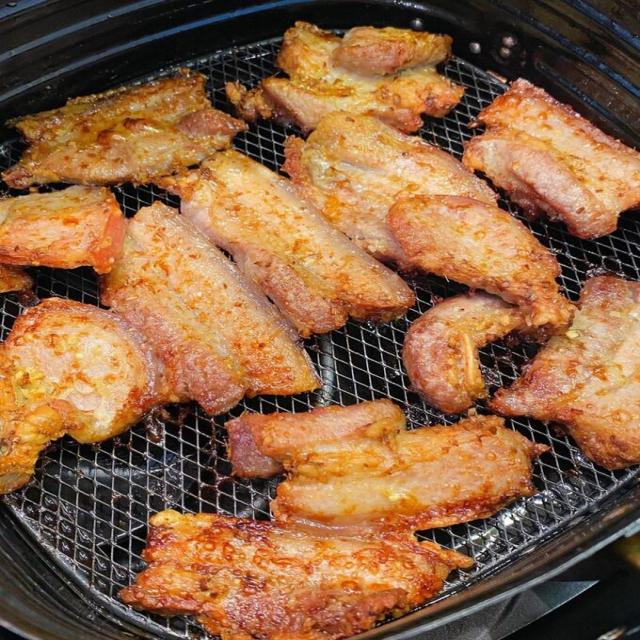thit chien: (285, 112, 569, 329), (161, 150, 414, 336), (103, 202, 318, 415), (120, 510, 471, 639), (227, 401, 548, 531), (0, 298, 177, 493), (489, 274, 639, 469), (463, 81, 639, 238), (2, 75, 239, 188), (261, 21, 463, 133), (403, 292, 521, 414), (0, 185, 125, 274)
